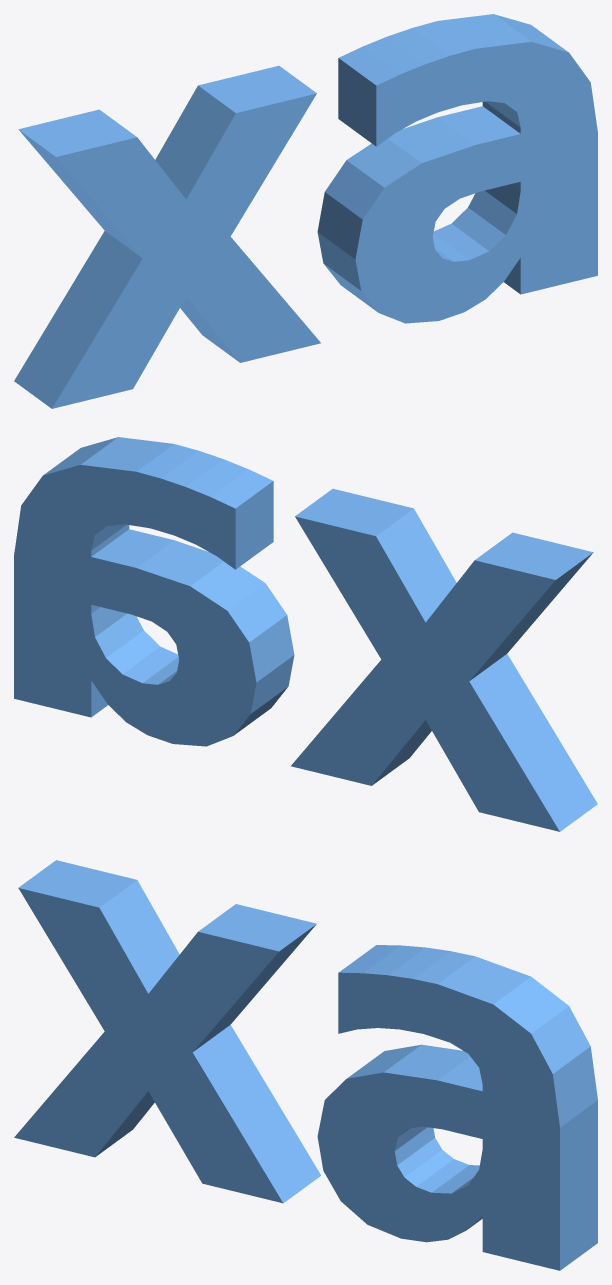
File: suku_kecil_xa.glb
The picture shows the model from 3 angles, top to bottom: view 1: azimuth 30°, elevation 25°; view 2: azimuth 150°, elevation 25°; view 3: azimuth 330°, elevation 25°; orthographic projection.
Parts seen in each view (by area): view 1: geometry_0; view 2: geometry_0; view 3: geometry_0.
Boxes of the visible parts, <box> form: geometry_0: <box>14,14,597,408</box>; geometry_0: <box>14,437,597,831</box>; geometry_0: <box>14,860,597,1270</box>.
Bounding box in the file's own units: 12.46 × 5.74 × 1.5.
